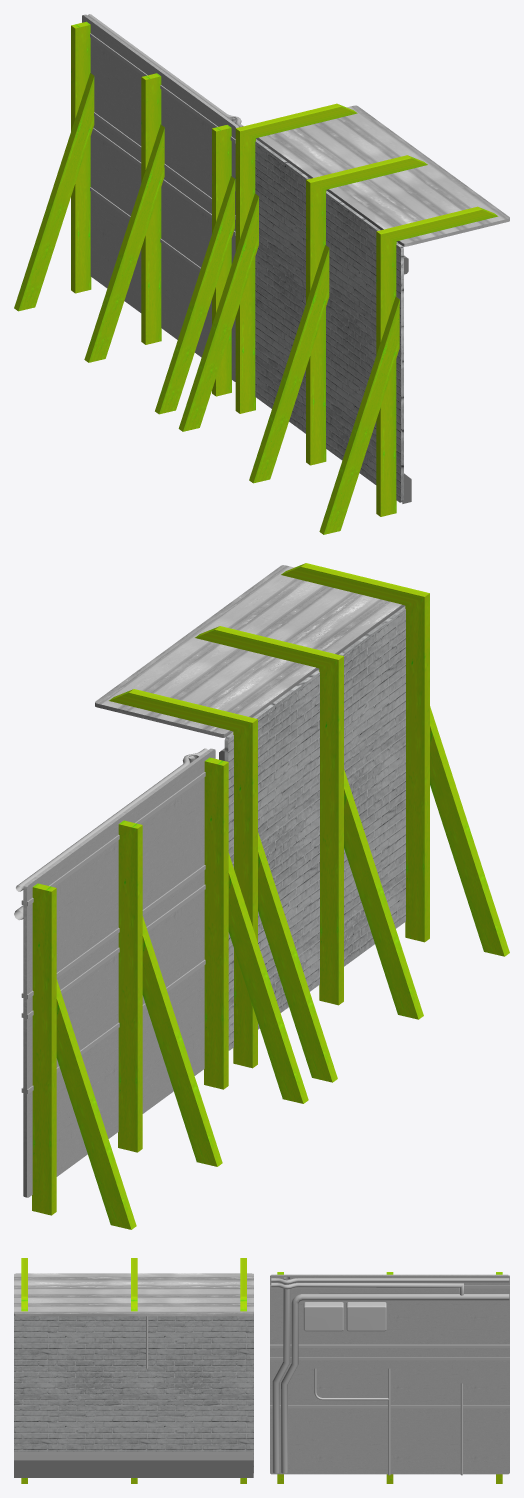
The model's file is DemoScene.glb.
3 views of the same model, one above another, from view 1: azimuth 30°, elevation 25°; view 2: azimuth 150°, elevation 25°; view 3: azimuth 270°, elevation 25° (orthographic). The views are drawn at different scales.
Parts seen in each view (by area): view 1: Cube.008, Cube.001, Cube.007, Cube, Cube.009, Line.001, Cube.002; view 2: Cube.008, Cube.001, Cube, Cube.007, Cube.009, Line.001, Cube.002, Cube.003, Cube.004; view 3: Cube, Cube.007, Cube.009, Line.001, Cube.010, Cube.006, Cube.008, Line, Cube.003, Cube.004, Cube.005, Cube.002 (+1 smaller).
Part boxes in pixels (x1,y1,x2,y2): Cube.008: [178, 103, 498, 534]; Cube.001: [14, 21, 235, 414]; Cube.007: [255, 139, 403, 502]; Cube: [82, 14, 238, 381]; Cube.009: [256, 105, 509, 246]; Line.001: [87, 14, 243, 127]; Cube.002: [90, 33, 235, 143]; Cube.008: [109, 563, 509, 1082]; Cube.001: [32, 757, 308, 1229]; Cube: [23, 748, 215, 1197]; Cube.007: [224, 606, 405, 1050]; Cube.009: [95, 565, 404, 737]; Line.001: [14, 748, 207, 920]; Cube.002: [21, 772, 205, 906]; Cube.003: [21, 865, 205, 999]; Cube.004: [21, 884, 205, 1018]; Cube: [270, 1274, 509, 1474]; Cube.007: [14, 1316, 253, 1472]; Cube.009: [14, 1273, 253, 1316]; Line.001: [271, 1276, 509, 1473]; Cube.010: [14, 1451, 253, 1477]; Cube.006: [303, 1302, 386, 1331]; Cube.008: [21, 1258, 246, 1483]; Line: [146, 1316, 462, 1475]; Cube.003: [270, 1344, 509, 1347]; Cube.004: [270, 1357, 509, 1360]; Cube.005: [270, 1405, 509, 1408]; Cube.002: [270, 1285, 509, 1288].
Bounding box in the file's own units: 2.37 × 3.43 × 7.02.
Materials: 7 (4 with a texture image).
